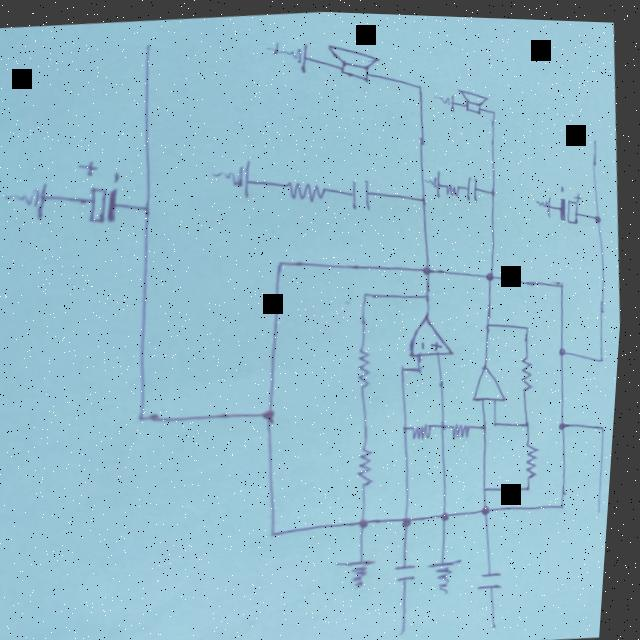capacitor: (77, 159, 127, 224), (557, 178, 589, 219), (349, 174, 376, 207), (484, 563, 513, 589), (399, 557, 428, 580), (465, 171, 486, 199)
ground: (6, 181, 54, 220), (264, 35, 313, 73), (214, 157, 259, 197), (341, 552, 387, 587), (435, 551, 472, 592), (536, 189, 559, 212), (435, 88, 461, 108), (427, 168, 444, 192)
junction: (405, 506, 425, 525), (137, 407, 158, 424), (443, 503, 461, 521), (265, 403, 283, 421), (484, 497, 504, 513), (276, 252, 294, 269), (361, 511, 381, 526), (419, 186, 435, 204), (486, 264, 502, 280), (423, 258, 439, 274), (142, 199, 160, 212), (562, 412, 577, 427), (560, 339, 574, 355), (595, 205, 609, 221), (423, 286, 438, 298), (363, 283, 377, 295), (417, 360, 431, 372), (557, 274, 571, 286), (274, 525, 289, 536), (441, 415, 454, 427), (482, 417, 495, 428), (402, 359, 414, 370), (404, 418, 417, 428), (485, 479, 498, 489), (525, 318, 537, 328), (601, 349, 612, 359), (489, 102, 500, 112), (486, 316, 498, 325), (415, 79, 427, 88), (490, 184, 502, 193), (527, 415, 538, 424), (603, 417, 614, 426), (563, 497, 573, 506), (496, 414, 507, 422), (529, 479, 540, 487)
resistor: (284, 173, 334, 200), (358, 342, 383, 388), (449, 411, 484, 439), (361, 442, 386, 481), (413, 411, 447, 437), (528, 437, 549, 476), (523, 351, 543, 388), (446, 177, 466, 194)
terminal: (142, 37, 158, 53), (405, 620, 419, 635), (495, 613, 509, 627), (601, 498, 612, 511), (592, 131, 603, 141)
